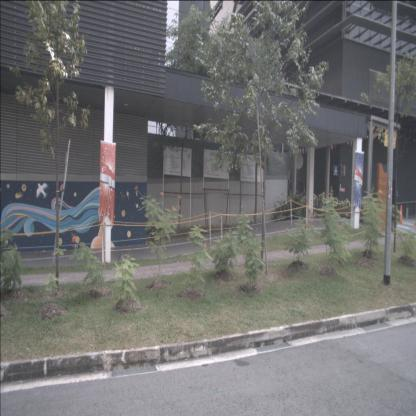cone: (398, 204, 404, 224)
